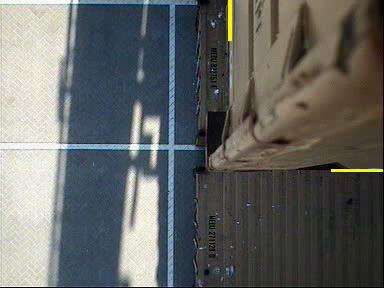groundmarker_2: (122, 64, 193, 115)
